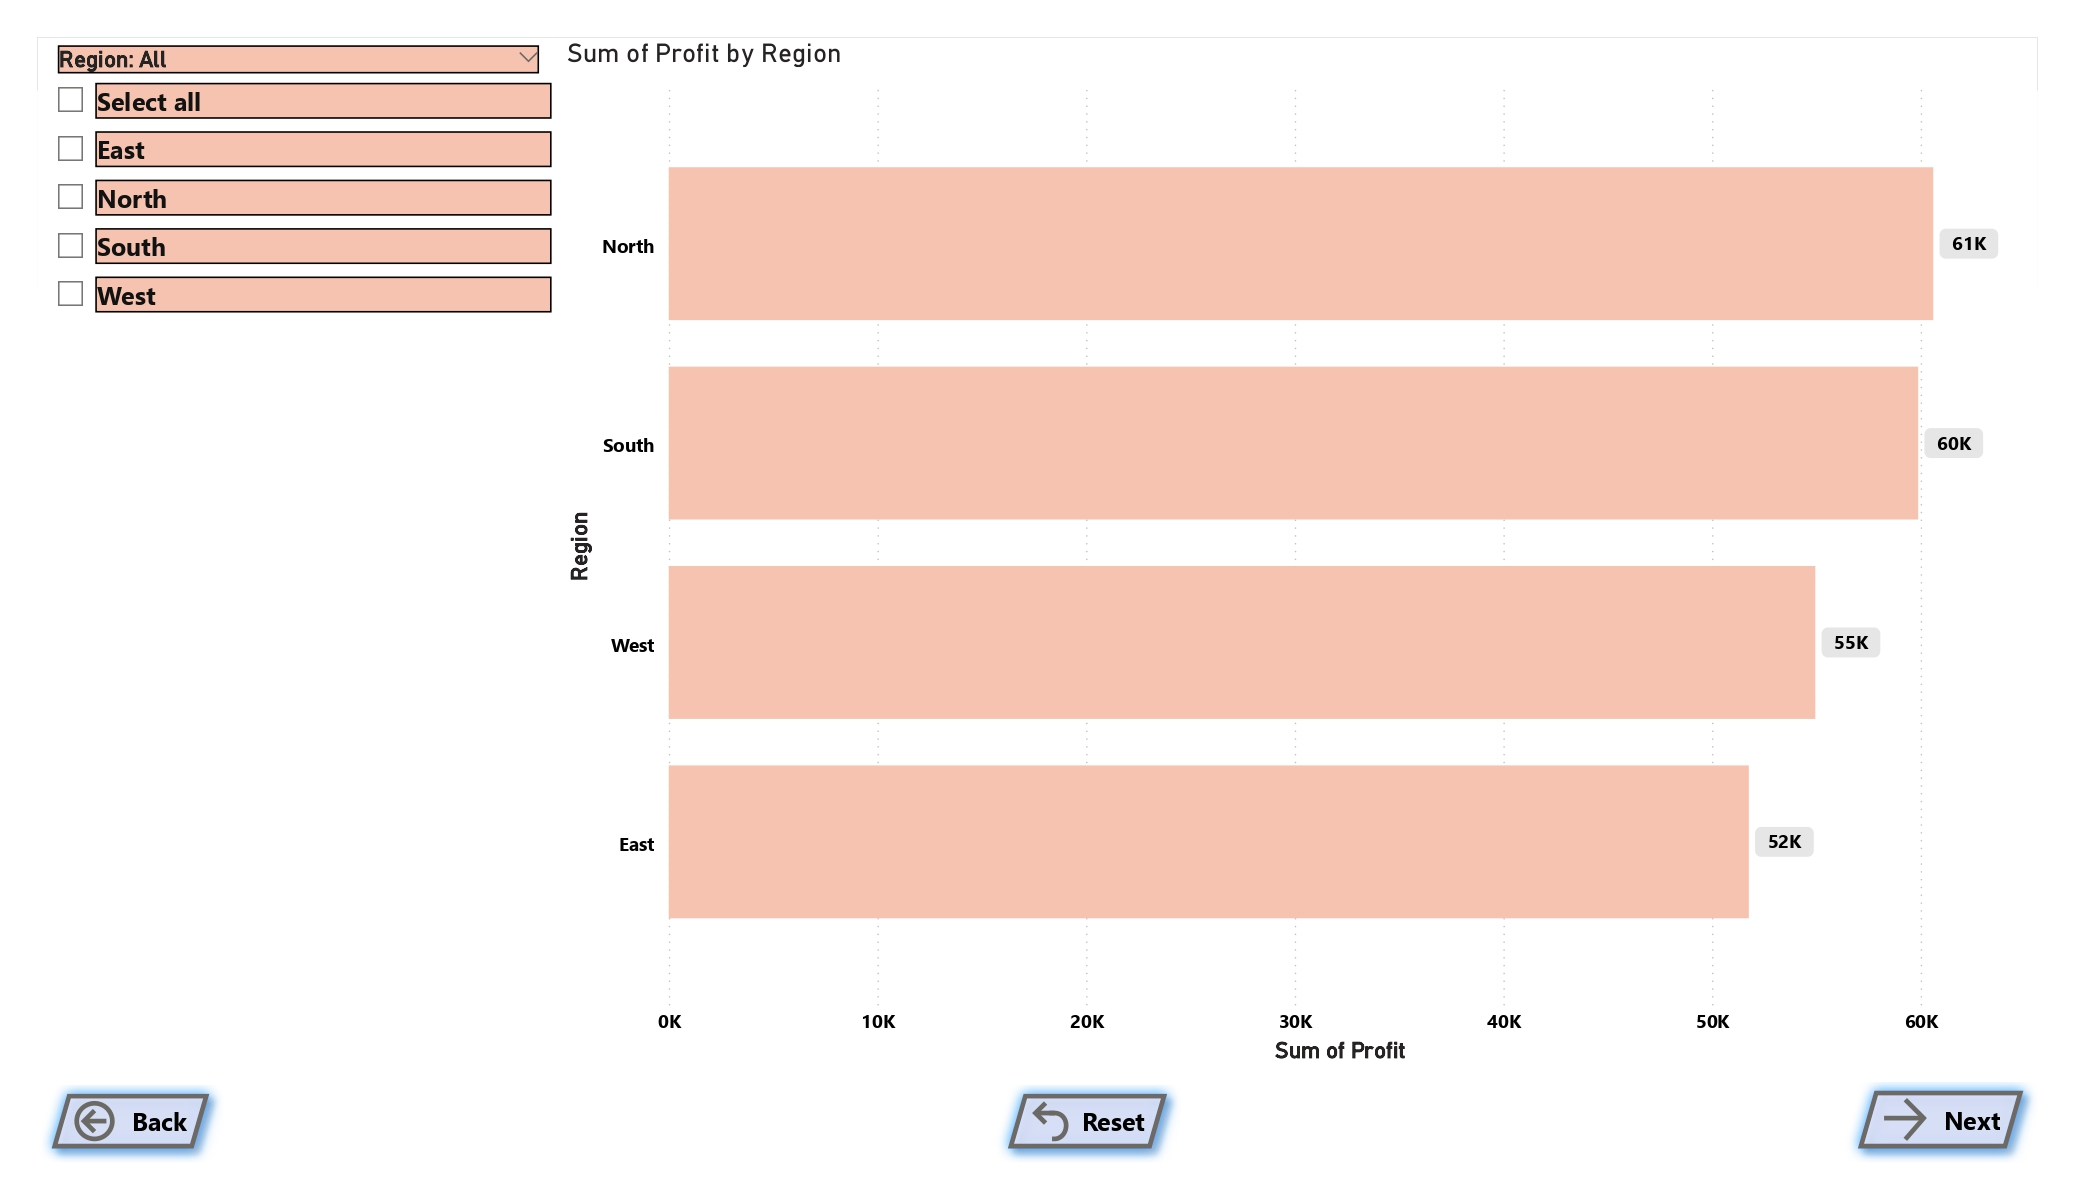

The page's visual inventory and layout, read from the dashboard file:
{"tool":"powerbi","page":{"name":"Chart&Slicer","canvas":[1280,720],"ordinal":3},"visuals":[{"type":"actionButton","box":[0,666.7,119.1,53.3],"z":0},{"type":"actionButton","box":[611.6,666.7,120.9,53.3],"z":1000},{"type":"actionButton","box":[1155.9,665.4,124.1,54.6],"z":2000},{"type":"slicer","fields":{"Values":["Sales.Region"]},"box":[0,0,334.2,659.6],"z":3000},{"type":"clusteredBarChart","fields":{"Category":["Sales.Region"],"Y":["Sum(Sales.Profit)"]},"box":[334.2,0,945.8,661.3],"z":4000}]}

Visuals, with their boxes in screenshot pixels (x1, y1, x2, y2):
actionButton: 38,1079,224,1162
actionButton: 993,1079,1182,1162
actionButton: 1844,1077,2038,1162
slicer - Sales.Region: 38,38,560,1068
clusteredBarChart - Sales.Region x Sum(Sales.Profit): 560,38,2038,1071
